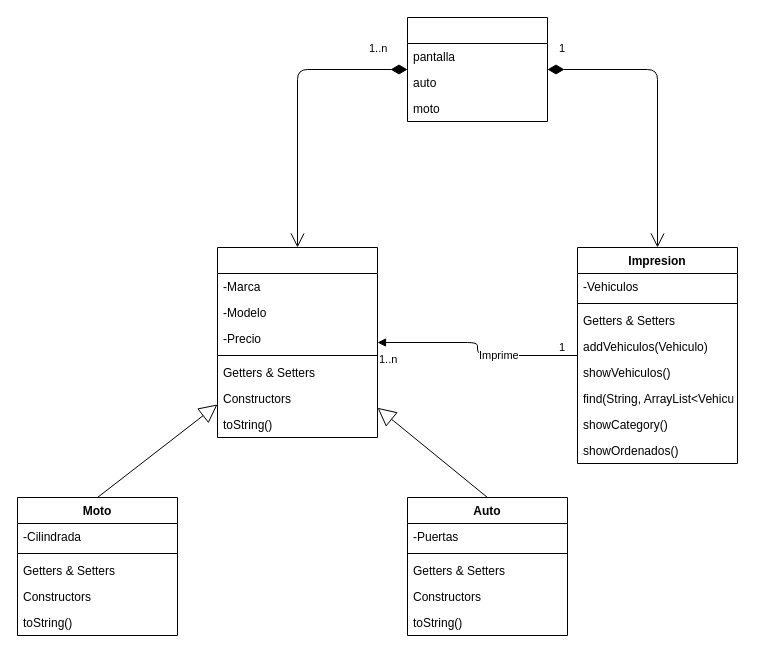
Some shapes in this 767 by 656 pixel diagram are drawn without their labels. Here are the shapes that lost their labels. From the top down, the box of each, then its label:
(406, 16, 548, 122): App
(216, 246, 378, 438): Vehiculo
